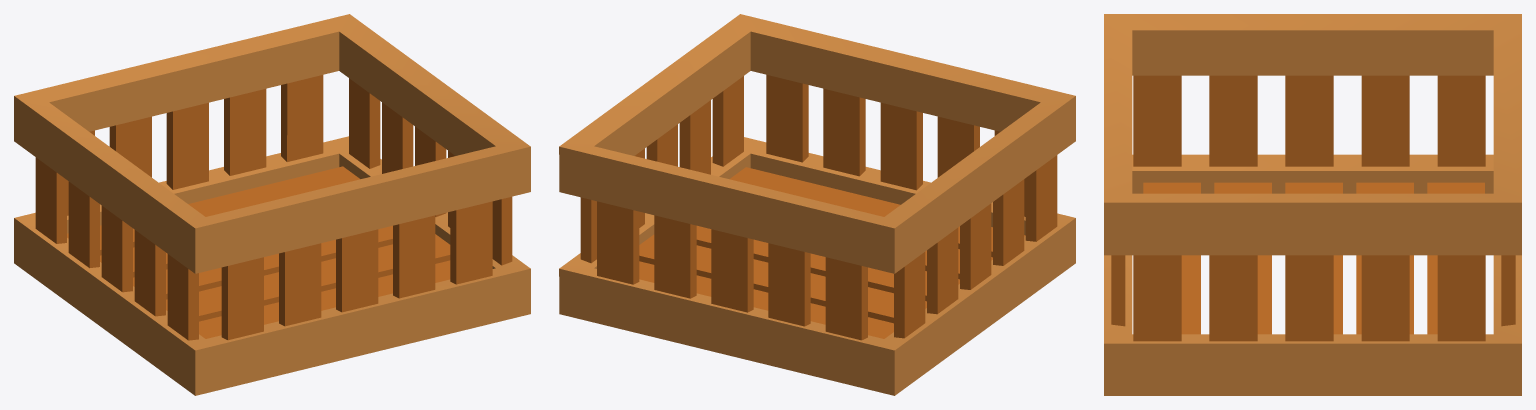
File: WoodenCase_S.fbx
The picture shows the model from 3 angles, left to right: view 1: azimuth 30°, elevation 25°; view 2: azimuth 150°, elevation 25°; view 3: azimuth 270°, elevation 25°; orthographic projection. The views are drawn at different scales.
Parts seen in each view (by area): view 1: WoodenCase_S; view 2: WoodenCase_S; view 3: WoodenCase_S.
Part boxes in pixels (box(x1,y1,x2,y2)): WoodenCase_S: box(14, 14, 530, 395); WoodenCase_S: box(559, 14, 1075, 395); WoodenCase_S: box(1104, 14, 1521, 395).
Size of the model in its own units: 191 by 91.2 by 179.
1 material, 1 textured.
